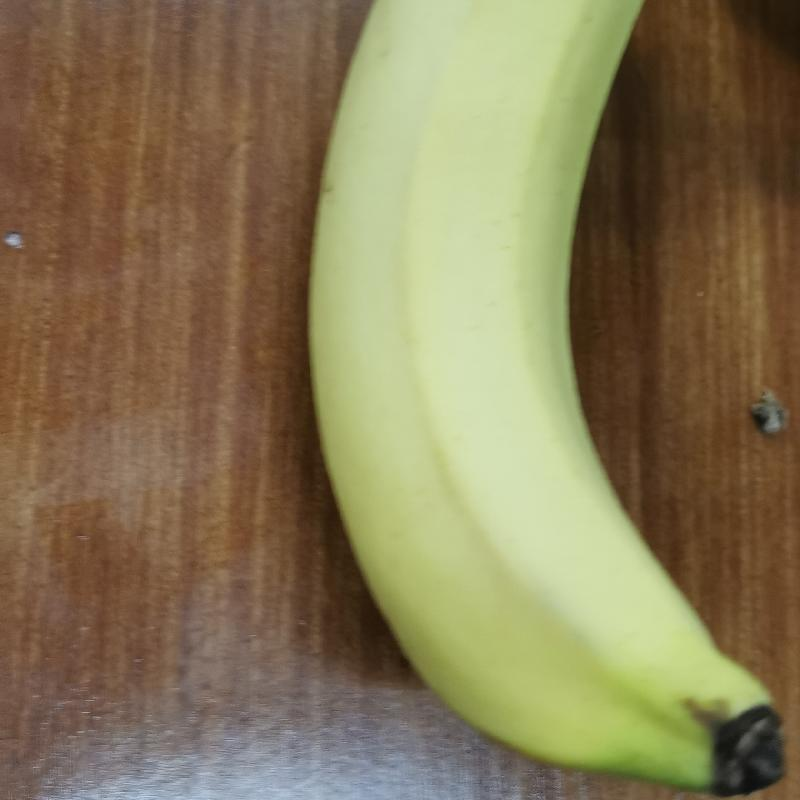bananas: (303, 0, 787, 788)
